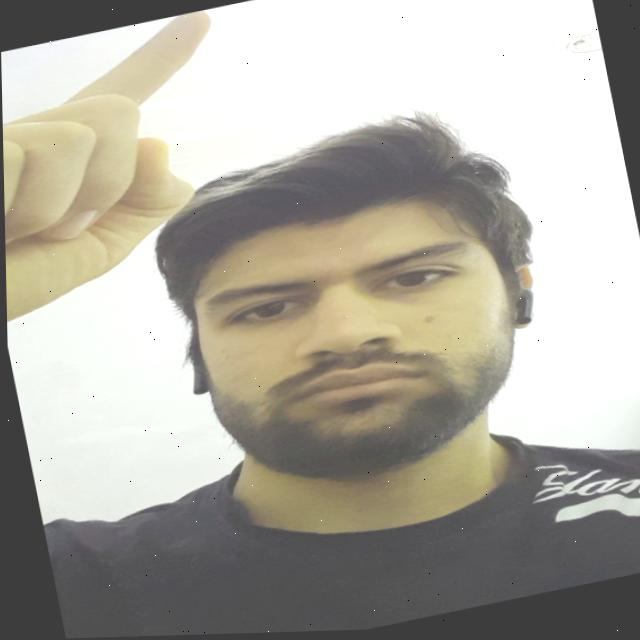Head: (127, 85, 575, 508)
One: (0, 8, 269, 337)
